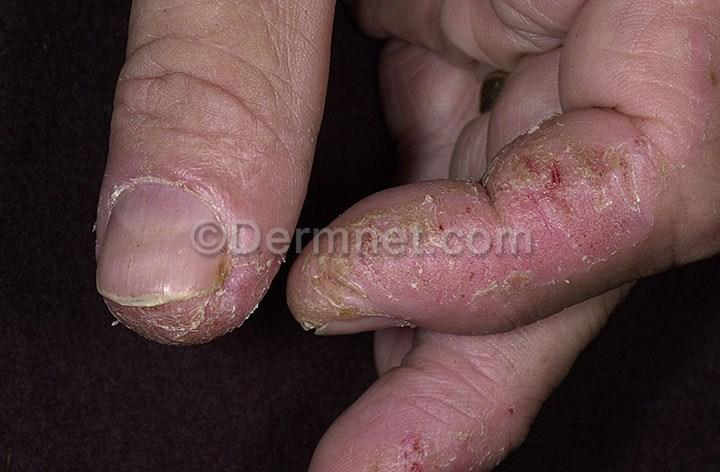Eczema: (495, 143, 576, 211), (372, 198, 454, 255), (427, 187, 516, 233), (579, 133, 637, 201), (401, 243, 455, 314), (498, 204, 571, 256), (326, 222, 375, 298), (560, 178, 609, 253), (460, 333, 518, 396), (540, 235, 604, 291), (618, 125, 669, 194), (618, 185, 676, 245), (468, 380, 536, 427), (354, 400, 435, 438), (446, 215, 491, 282), (367, 261, 413, 321), (600, 194, 635, 272), (492, 253, 533, 319), (419, 335, 465, 392), (324, 432, 396, 468), (449, 265, 501, 314), (530, 257, 574, 312), (382, 378, 436, 420), (292, 251, 333, 302), (429, 379, 475, 424), (427, 423, 474, 466), (471, 410, 514, 456), (291, 296, 369, 321), (690, 127, 720, 184), (106, 298, 156, 332), (222, 253, 276, 283), (689, 30, 720, 80), (154, 303, 193, 342), (424, 317, 531, 331), (219, 206, 250, 253), (394, 183, 439, 213), (349, 202, 387, 237), (366, 455, 436, 472), (698, 77, 720, 130), (395, 432, 435, 460), (193, 299, 224, 335), (438, 395, 472, 424), (221, 283, 257, 310), (534, 123, 572, 148), (197, 180, 226, 207), (147, 167, 193, 183), (333, 417, 360, 441), (109, 174, 146, 188), (93, 214, 106, 252), (98, 198, 117, 213)
